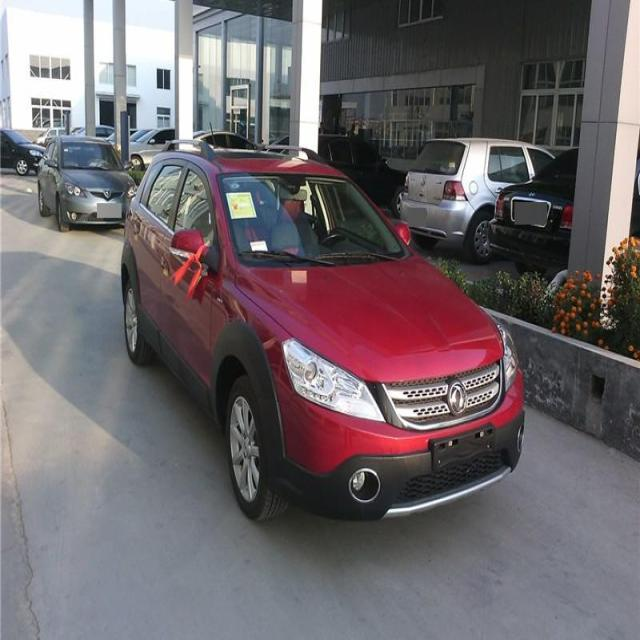front_bumper: (258, 369, 527, 520)
front_glass: (217, 170, 411, 266)
front_left_side_light: (499, 321, 521, 395)
front_right_side_door: (155, 158, 224, 417)
front_right_side_light: (281, 333, 387, 424)
front_right_side_mirror: (170, 228, 210, 264)
wheel: (227, 378, 280, 520), (124, 286, 150, 364)
